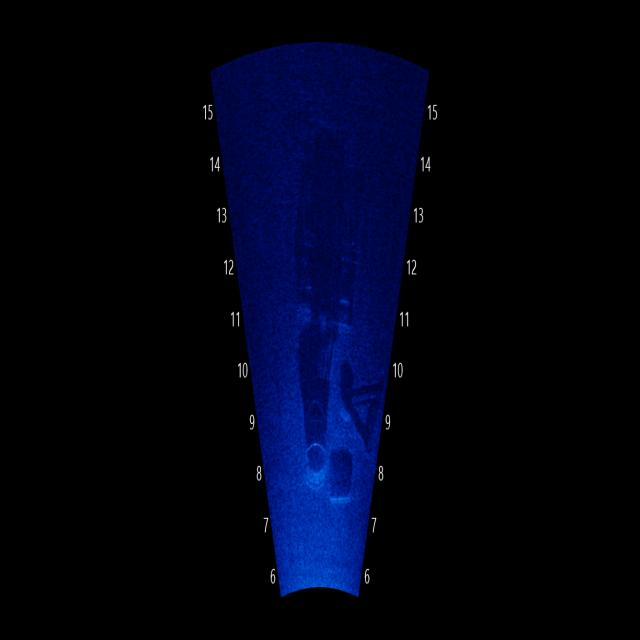circle: (297, 421, 328, 488)
square: (294, 132, 367, 332)
triangle: (339, 344, 386, 458)
